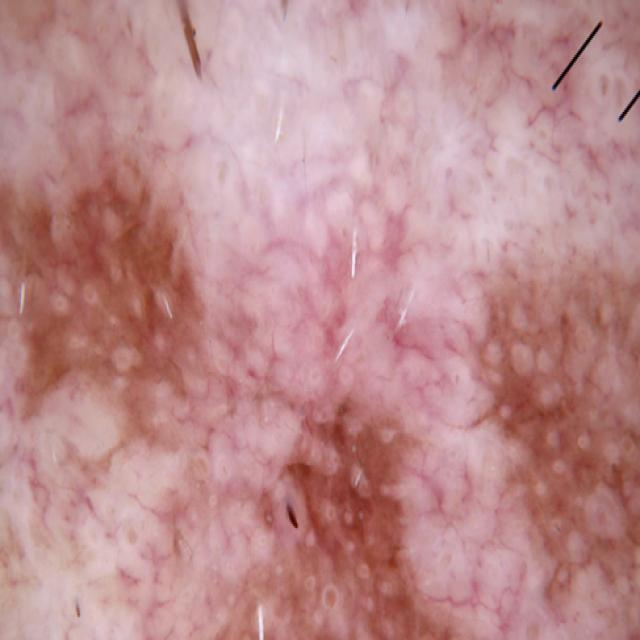Melanoma: (0, 118, 222, 471), (245, 423, 495, 640), (485, 249, 640, 551)
